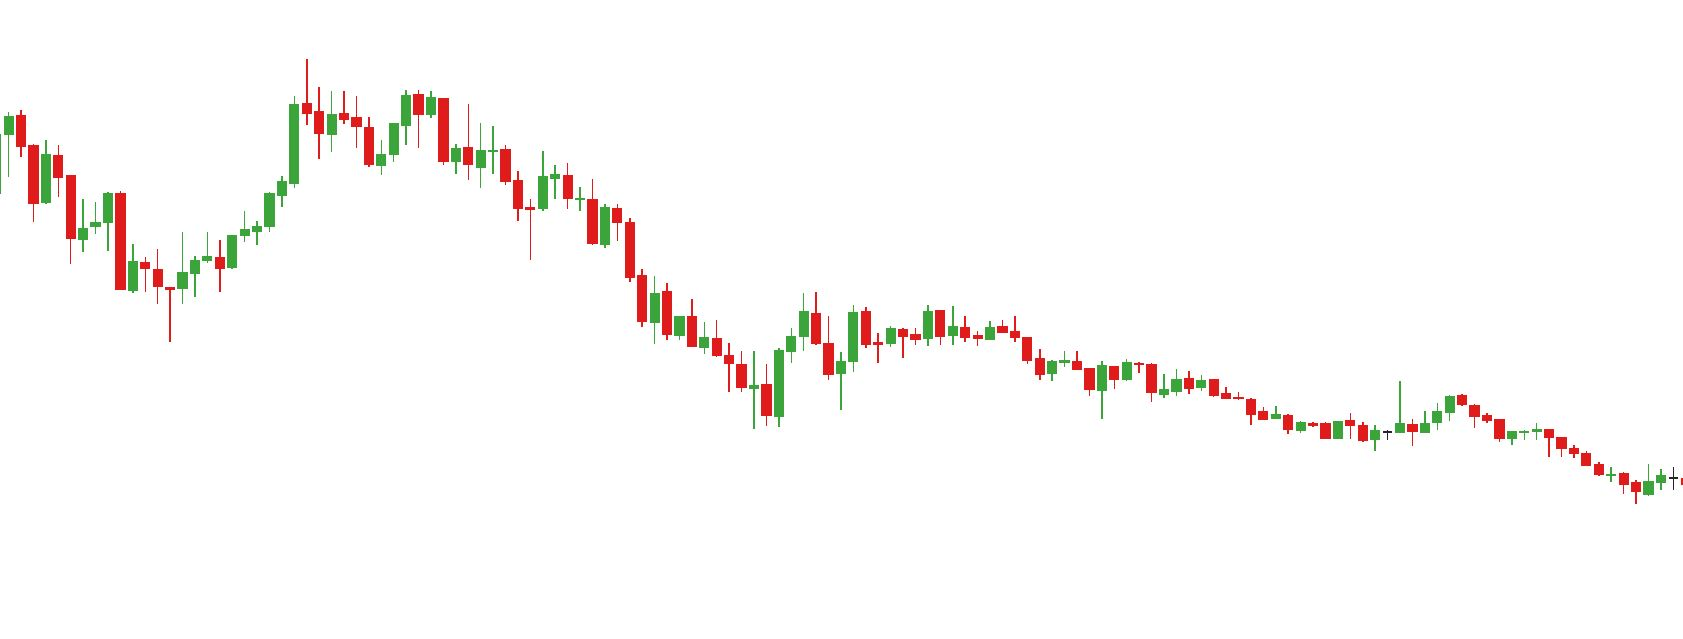sell: (14, 58, 313, 204)
